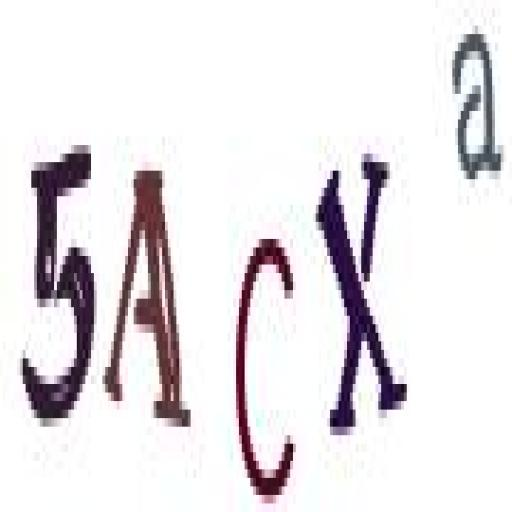5: (18, 134, 100, 444)
A: (100, 160, 190, 444)
C: (227, 213, 296, 512)
X: (315, 139, 415, 448)
a: (447, 16, 510, 210)
